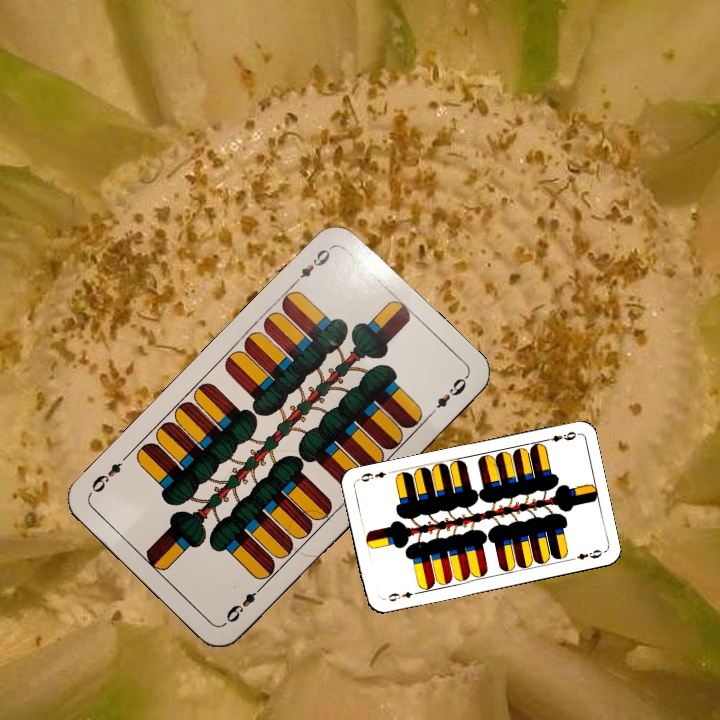E9: (220, 581, 267, 627), (296, 243, 335, 281), (539, 427, 579, 445), (384, 588, 421, 604)
